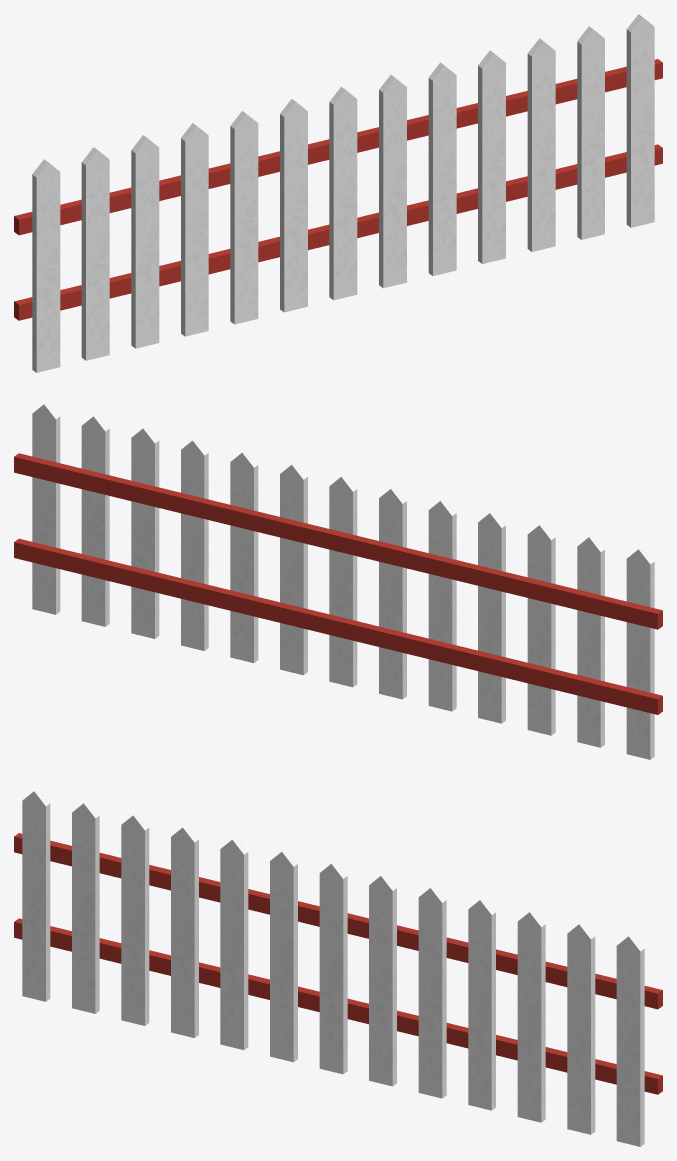
Rendered from fence.glb.
3 renders of one model, top to bottom at view 1: azimuth 30°, elevation 25°; view 2: azimuth 150°, elevation 25°; view 3: azimuth 330°, elevation 25°, orthographic.
Visible parts, largest first — view 1: fence; view 2: fence; view 3: fence.
Boxes of the visible parts, x1,y1,x2,y2 form: fence: (14, 14, 662, 372); fence: (14, 401, 662, 759); fence: (14, 788, 662, 1146).
Bounding box in the file's own units: 3 × 0.9252 × 0.0775.
Materials: 2 (2 with a texture image).
